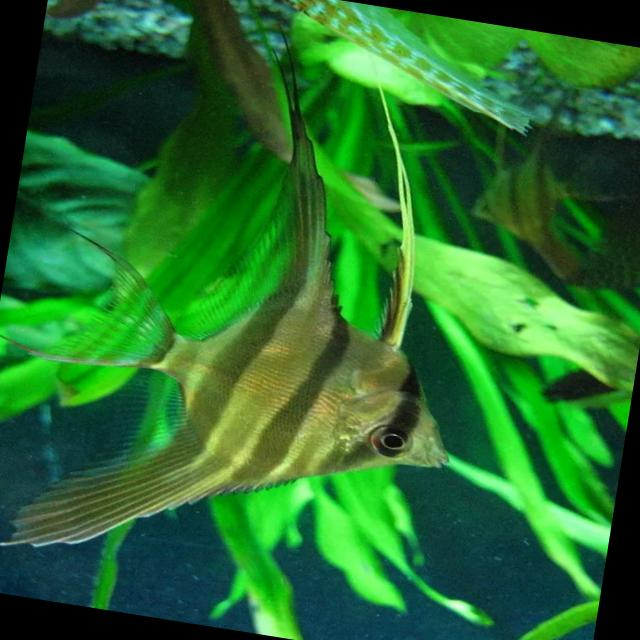AngelFish: (3, 4, 511, 612)
